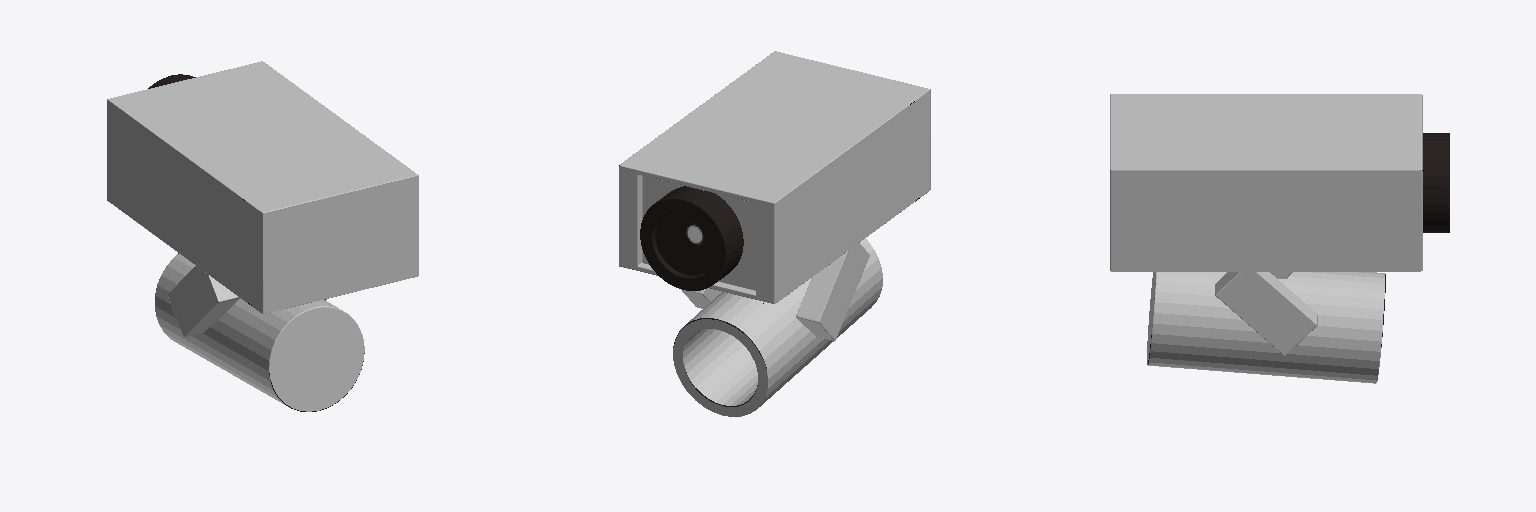
3 views of the same model, side by side, from view 1: azimuth 30°, elevation 25°; view 2: azimuth 150°, elevation 25°; view 3: azimuth 270°, elevation 25° (orthographic).
Visible parts, largest first — view 1: 立方体.002; view 2: 立方体.002; view 3: 立方体.002.
Boxes of the visible parts, box(x1,y1,x2,y2) form: 立方体.002: box(107, 61, 418, 411); 立方体.002: box(619, 51, 930, 416); 立方体.002: box(1110, 94, 1449, 383).
Size of the model in its own units: 1.15 by 1.75 by 2.17.
1 materials, 1 textured.